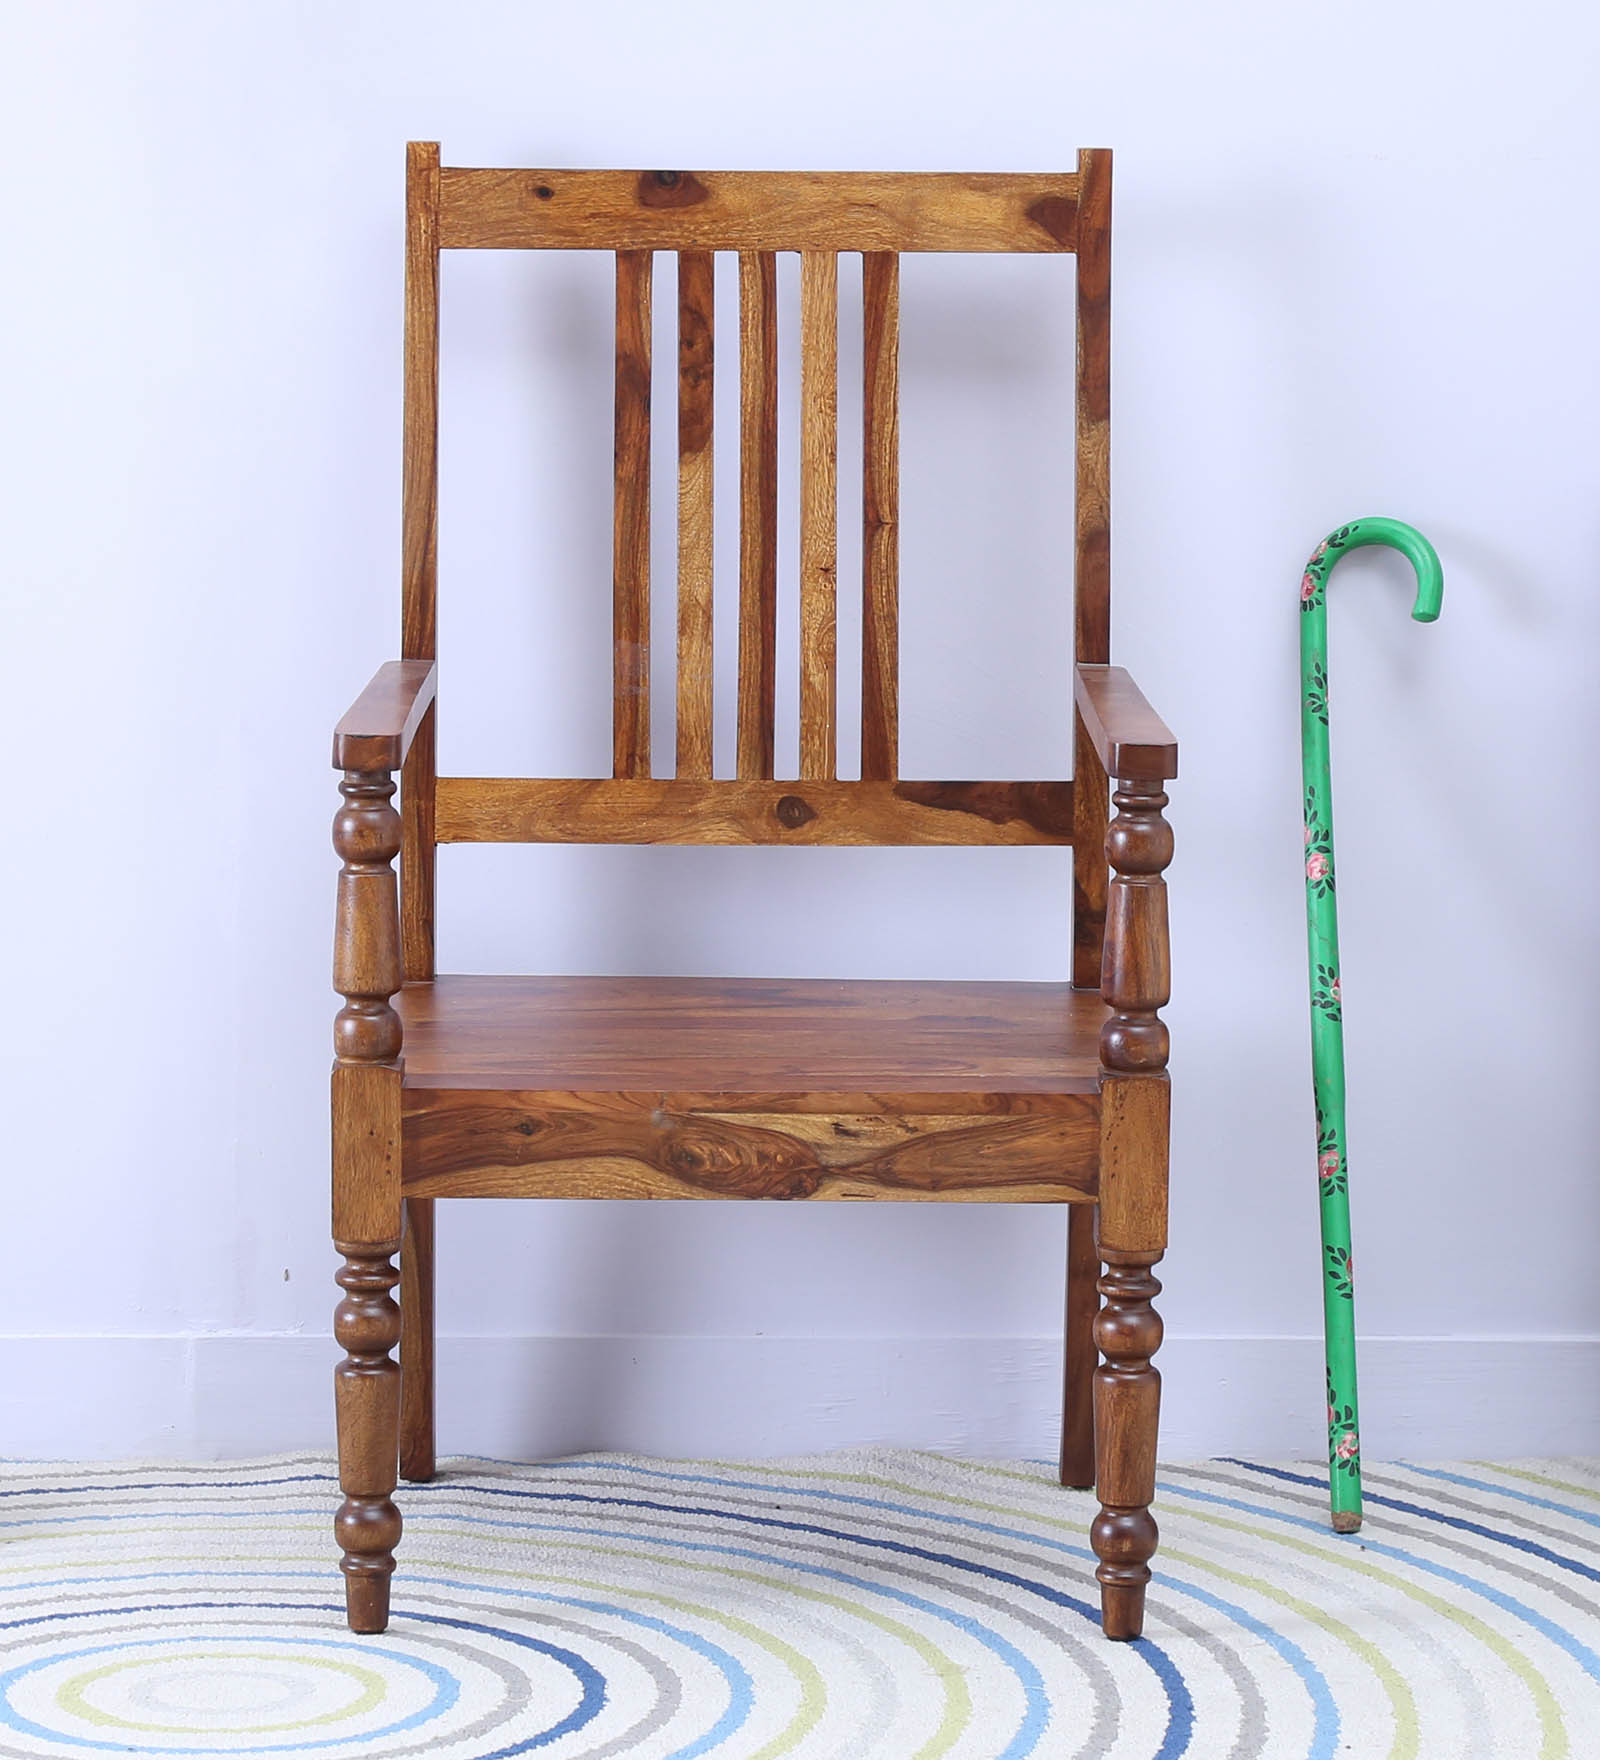Harleston Arm Chair in Provincial Teak Finish by Amberville: (251, 104, 1255, 1647)
